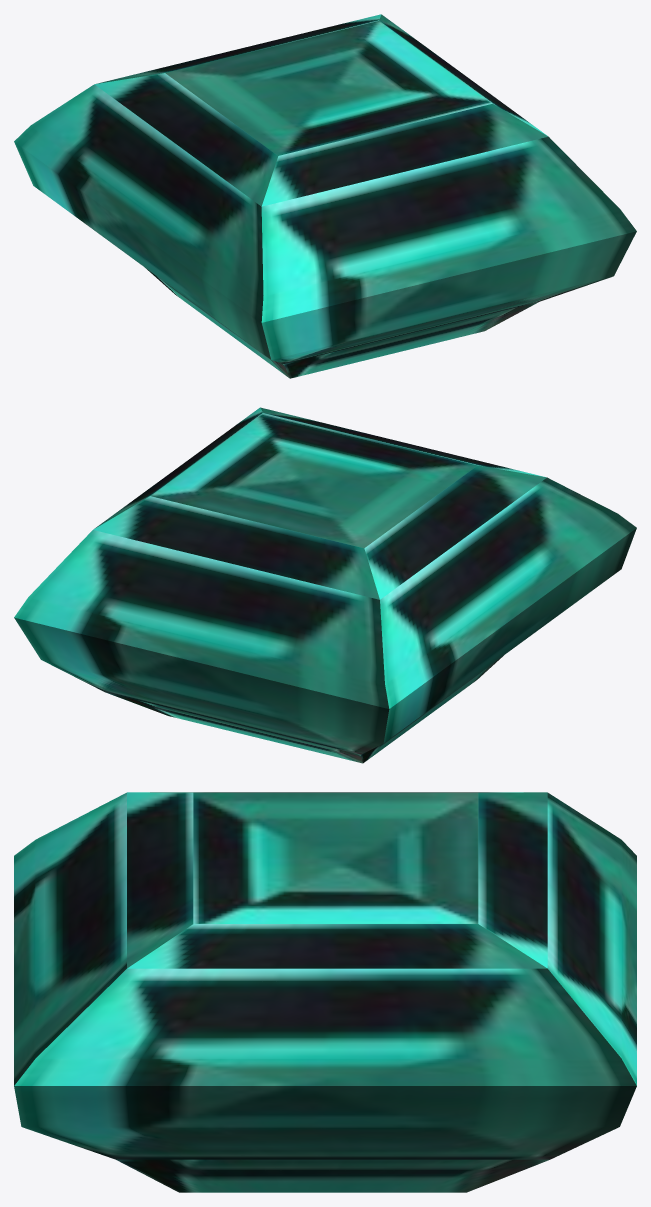
Rendered from emerald.dae.
The picture shows the model from 3 angles, top to bottom: view 1: azimuth 30°, elevation 25°; view 2: azimuth 150°, elevation 25°; view 3: azimuth 270°, elevation 25°; orthographic projection. The views are drawn at different scales.
Visible parts, largest first — view 1: block; view 2: block; view 3: block.
Boxes of the visible parts, x1=… form: block: x1=14, y1=14, x2=636, y2=378; block: x1=14, y1=407, x2=636, y2=763; block: x1=14, y1=792, x2=636, y2=1192.
Bounding box in the file's own units: 2.86 × 1.6 × 3.27.
